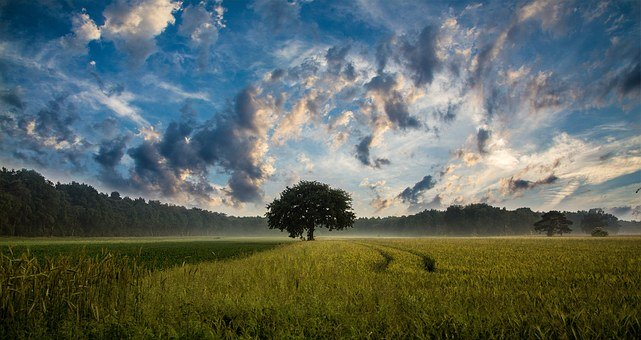field: (6, 233, 635, 337)
sky: (29, 1, 623, 209)
tree: (265, 172, 371, 244)
